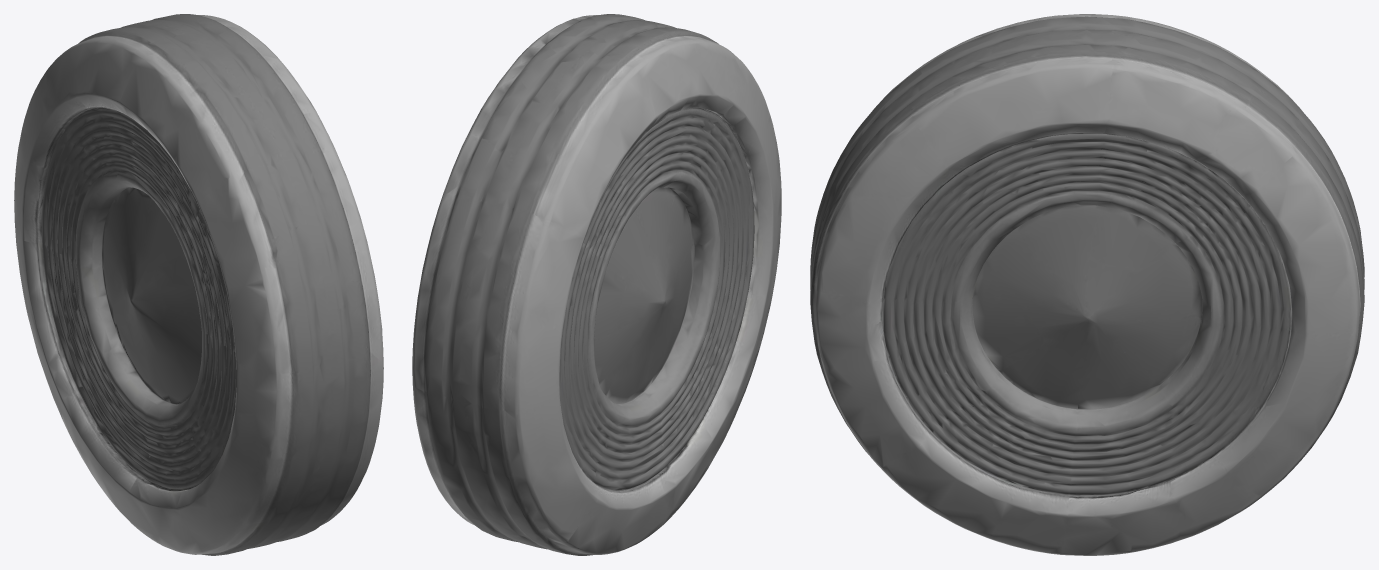
File: btn-selection.glb
3 views of the same model, side by side, from view 1: azimuth 30°, elevation 25°; view 2: azimuth 150°, elevation 25°; view 3: azimuth 270°, elevation 25° (orthographic). The views are drawn at different scales.
Parts seen in each view (by area): view 1: tripo_node_10242e31-a13b-43a6-9194-b309f12aaf08; view 2: tripo_node_10242e31-a13b-43a6-9194-b309f12aaf08; view 3: tripo_node_10242e31-a13b-43a6-9194-b309f12aaf08.
Part boxes in pixels (x1=…): tripo_node_10242e31-a13b-43a6-9194-b309f12aaf08: x1=14, y1=14, x2=383, y2=555; tripo_node_10242e31-a13b-43a6-9194-b309f12aaf08: x1=412, y1=14, x2=781, y2=555; tripo_node_10242e31-a13b-43a6-9194-b309f12aaf08: x1=810, y1=14, x2=1364, y2=555.
Bounding box in the file's own units: 0.2961 × 0.9998 × 1.
1 material, 1 textured.
